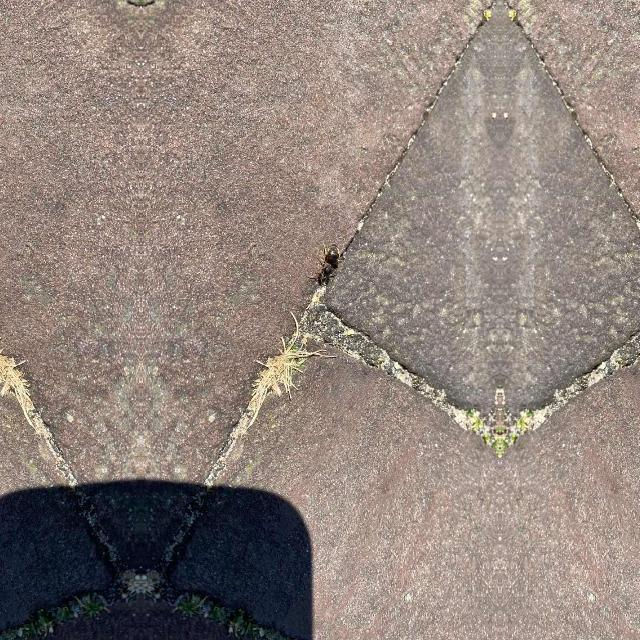Lasius: (312, 237, 344, 285)
